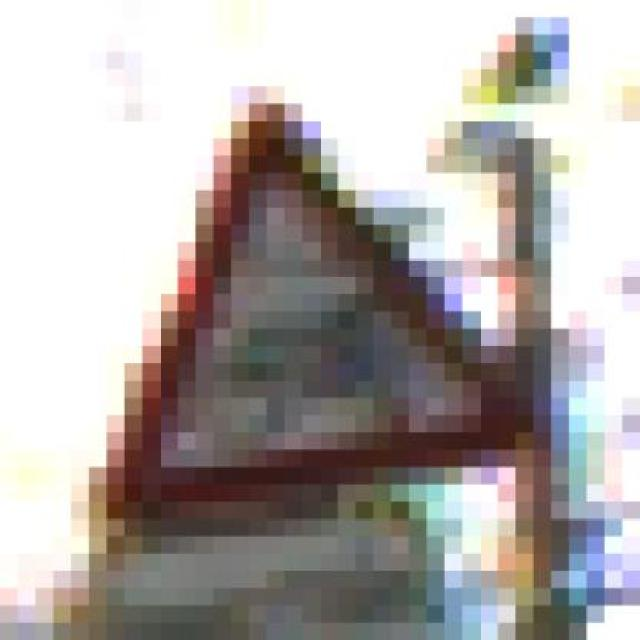CYCLE ROUTE AHEAD WARNING: (53, 87, 552, 519)
